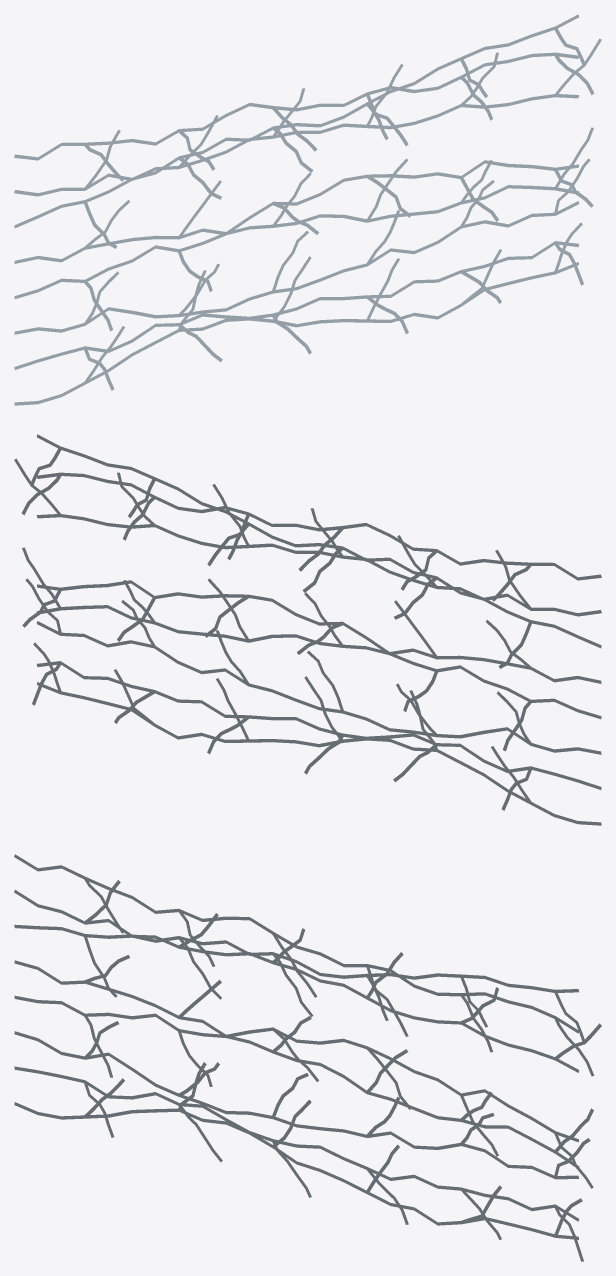
File: 2071_RiftGround_Overall_DeepCrackEdges.fbx
3 renders of one model, top to bottom at view 1: azimuth 30°, elevation 25°; view 2: azimuth 150°, elevation 25°; view 3: azimuth 330°, elevation 25°, orthographic.
Parts seen in each view (by area): view 1: PART_DeepCrackEdges_27, PART_DeepCrackEdges_20, PART_DeepCrackEdges_13, PART_DeepCrackEdges_41, PART_DeepCrackEdges_55, PART_DeepCrackEdges_34, PART_DeepCrackEdges_6, PART_DeepCrackEdges_48; view 2: PART_DeepCrackEdges_27, PART_DeepCrackEdges_20, PART_DeepCrackEdges_41, PART_DeepCrackEdges_55, PART_DeepCrackEdges_13, PART_DeepCrackEdges_6, PART_DeepCrackEdges_34, PART_DeepCrackEdges_48; view 3: PART_DeepCrackEdges_27, PART_DeepCrackEdges_20, PART_DeepCrackEdges_13, PART_DeepCrackEdges_41, PART_DeepCrackEdges_55, PART_DeepCrackEdges_48, PART_DeepCrackEdges_6, PART_DeepCrackEdges_34.
Boxes of the visible parts, x1,y1,x2,y2 form: PART_DeepCrackEdges_27: [14, 160, 578, 299]; PART_DeepCrackEdges_20: [14, 201, 579, 334]; PART_DeepCrackEdges_13: [14, 241, 579, 369]; PART_DeepCrackEdges_41: [14, 14, 578, 228]; PART_DeepCrackEdges_55: [14, 52, 579, 160]; PART_DeepCrackEdges_34: [14, 185, 579, 263]; PART_DeepCrackEdges_6: [14, 262, 578, 405]; PART_DeepCrackEdges_48: [14, 94, 579, 196]; PART_DeepCrackEdges_27: [37, 580, 601, 719]; PART_DeepCrackEdges_20: [36, 621, 601, 754]; PART_DeepCrackEdges_41: [37, 434, 601, 648]; PART_DeepCrackEdges_55: [37, 472, 601, 580]; PART_DeepCrackEdges_13: [36, 661, 601, 789]; PART_DeepCrackEdges_6: [37, 682, 601, 825]; PART_DeepCrackEdges_34: [36, 605, 601, 683]; PART_DeepCrackEdges_48: [36, 514, 601, 616]; PART_DeepCrackEdges_27: [14, 995, 578, 1142]; PART_DeepCrackEdges_20: [14, 1031, 579, 1179]; PART_DeepCrackEdges_13: [14, 1066, 579, 1221]; PART_DeepCrackEdges_41: [14, 924, 578, 992]; PART_DeepCrackEdges_55: [14, 854, 578, 1033]; PART_DeepCrackEdges_48: [14, 890, 579, 1072]; PART_DeepCrackEdges_6: [14, 1102, 578, 1239]; PART_DeepCrackEdges_34: [14, 960, 579, 1167].
Bounding box in the file's own units: 2050 × 927 × 0.000151.
